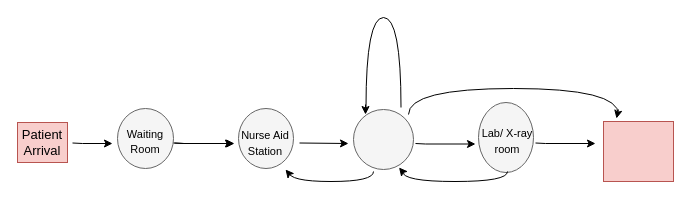
Image size: 691x201. Some labels were removed from this diagram. The centre of each missing label's shape, as x and y in pixels:
"Checkout and cashier" goes at point (638, 151).
"Examining Room" goes at point (383, 139).
